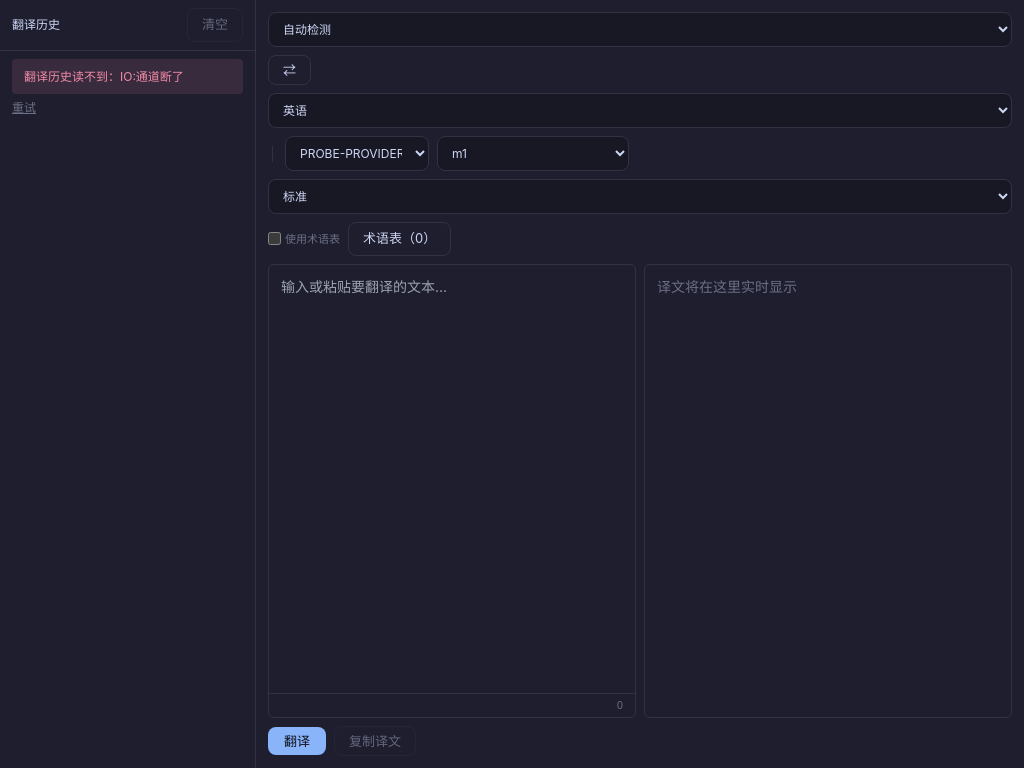
Scenario: ① 历史那一读：失败说一句、读到即收回，不许演成"还没翻过" › 那颗重试键：先失败再成功 ⇒ 那句随这一发落定自己退场、条目上屏
Click the button with test id "translate-history-retry" at (24, 108), box top-left (12, 100), bottom-right (36, 116)
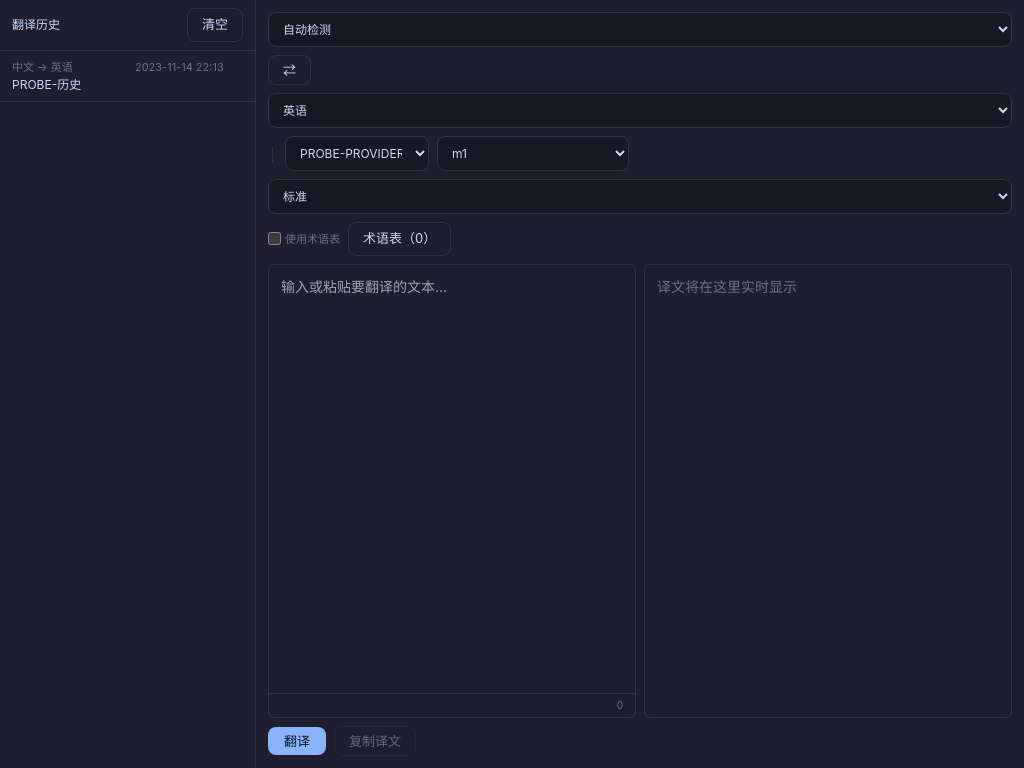
Check: the text "PROBE-历史" is shown, box top-left (12, 77), bottom-right (81, 92)
